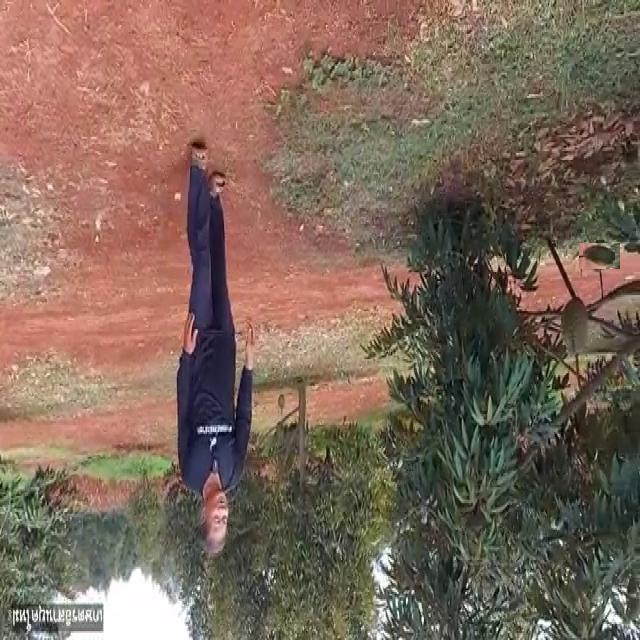durian: (560, 296, 591, 363), (583, 239, 617, 273), (276, 391, 288, 410)
